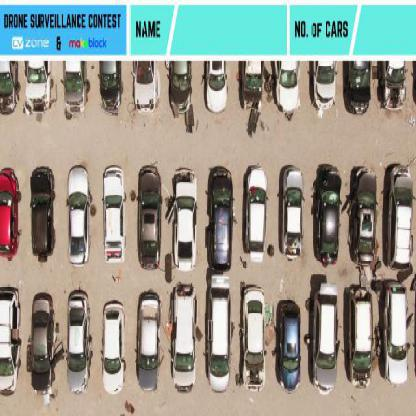car: (311, 164, 377, 270), (341, 167, 377, 280), (385, 164, 414, 274), (311, 165, 342, 265), (314, 280, 339, 392), (172, 284, 196, 394), (207, 168, 233, 269), (136, 291, 162, 391), (350, 282, 374, 390), (137, 163, 161, 270), (209, 267, 230, 387), (31, 292, 55, 394), (173, 168, 197, 269), (68, 167, 92, 265), (30, 166, 56, 256), (0, 286, 21, 392), (278, 302, 302, 393), (103, 167, 125, 265), (282, 165, 305, 258), (103, 303, 126, 395), (247, 167, 268, 261), (69, 289, 92, 374), (0, 169, 21, 257), (242, 61, 264, 137), (346, 62, 371, 114), (99, 62, 123, 114), (278, 60, 300, 115), (25, 61, 49, 111), (133, 61, 156, 113), (170, 62, 193, 114), (65, 62, 86, 116), (381, 63, 405, 109), (208, 62, 229, 114), (314, 63, 335, 108), (1, 62, 16, 114), (27, 65, 47, 85)
